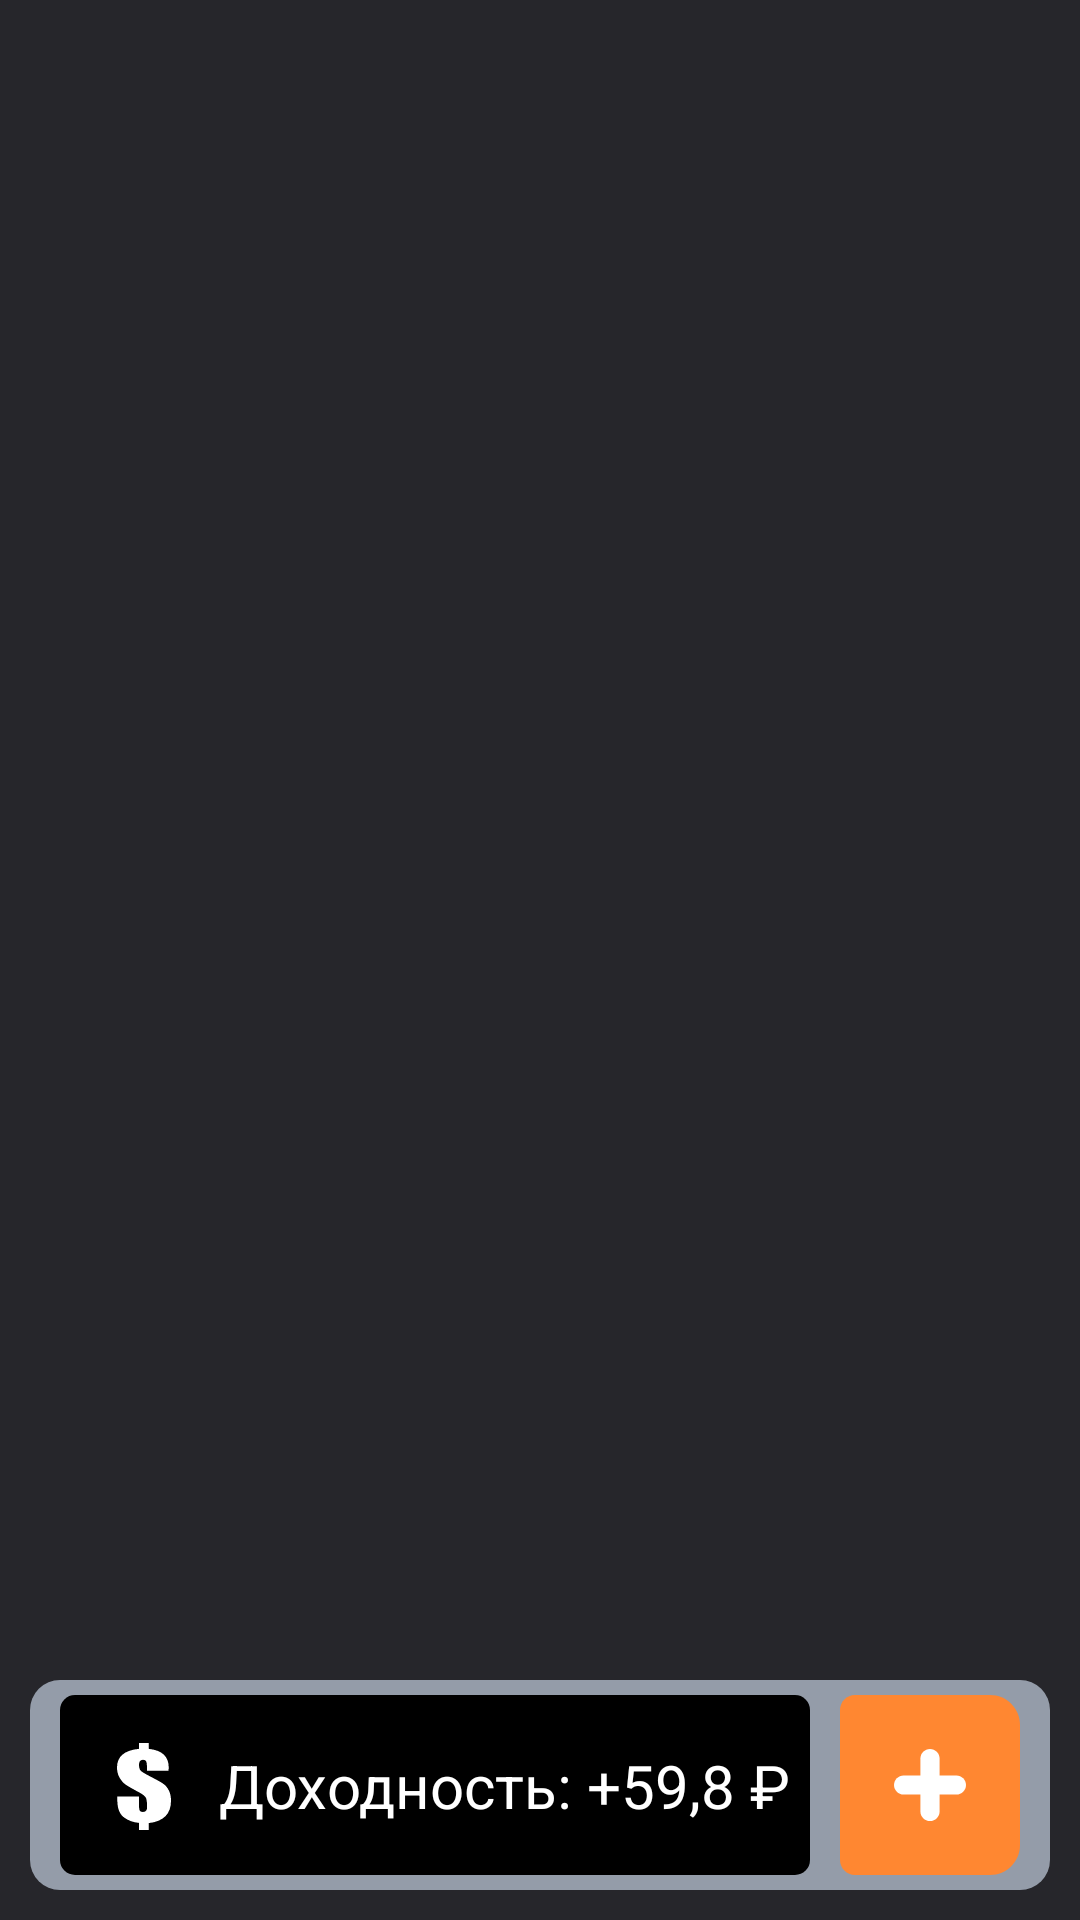

Icon click points for this 1080x1920 phone screenshot, format point (x, y):
dollar: point (144, 1786)
plus: point (930, 1785)
